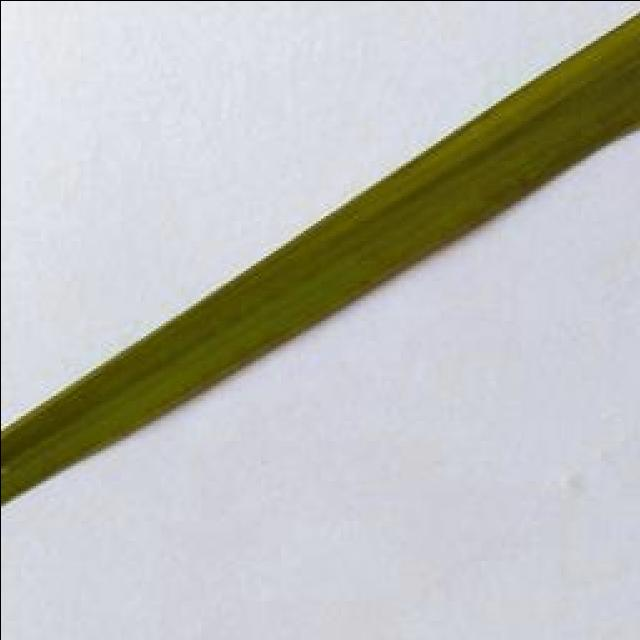Healthy: (0, 12, 638, 510)
